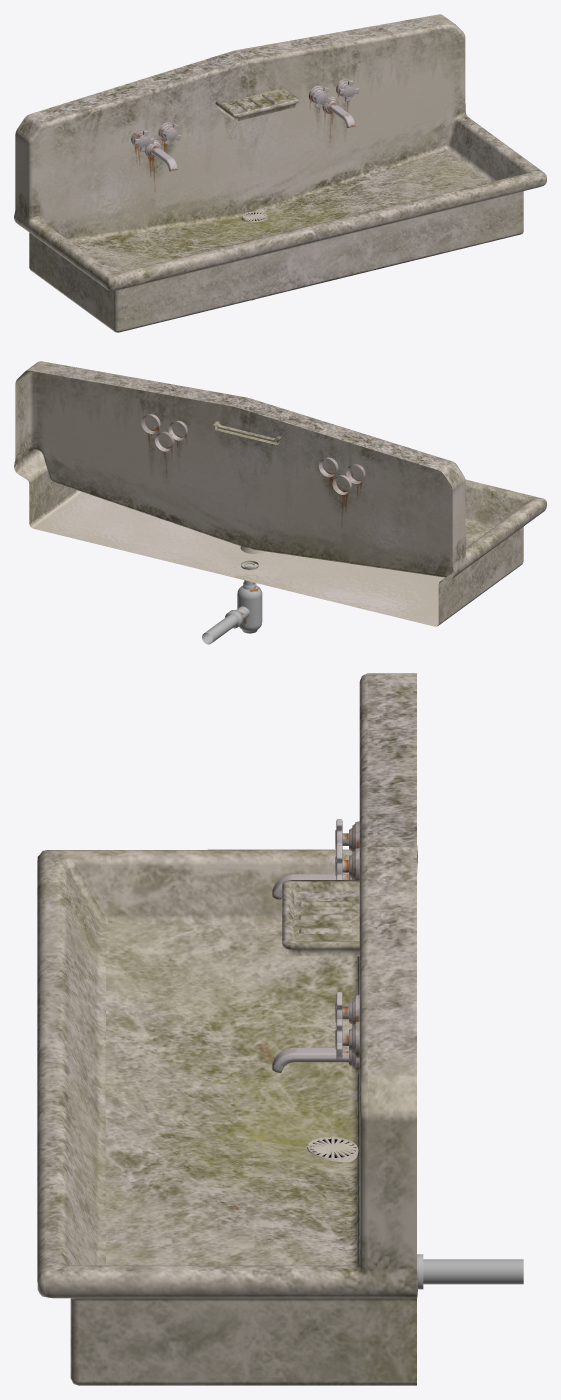
Rendered from washbasin.glb.
The picture shows the model from 3 angles, top to bottom: view 1: azimuth 30°, elevation 25°; view 2: azimuth 150°, elevation 25°; view 3: azimuth 270°, elevation 25°; orthographic projection. The views are drawn at different scales.
Parts seen in each view (by area): view 1: Lavabo_UV_Unique; view 2: Lavabo_UV_Unique; view 3: Lavabo_UV_Unique, Evac_Lavabo.
Boxes of the visible parts, <box> form: Lavabo_UV_Unique: <box>14,14,546,332</box>; Lavabo_UV_Unique: <box>14,361,546,644</box>; Lavabo_UV_Unique: <box>37,673,523,1385</box>; Evac_Lavabo: <box>307,1137,358,1161</box>.
Size of the model in its own units: 161 by 82.7 by 77.05.
3 materials, 2 textured.
